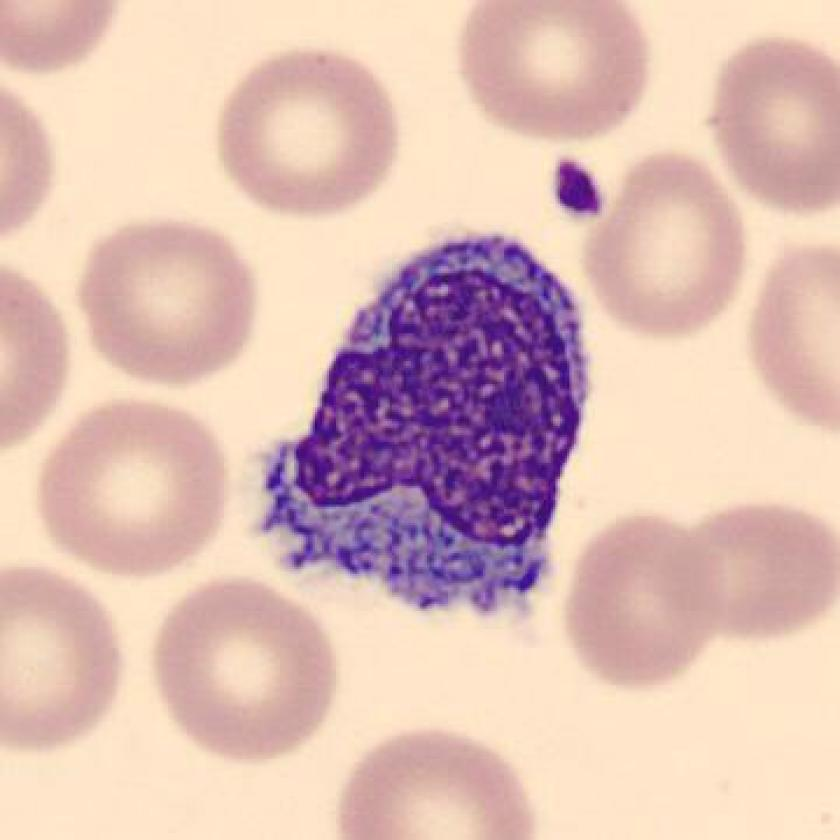monocyte: (232, 207, 622, 640)
